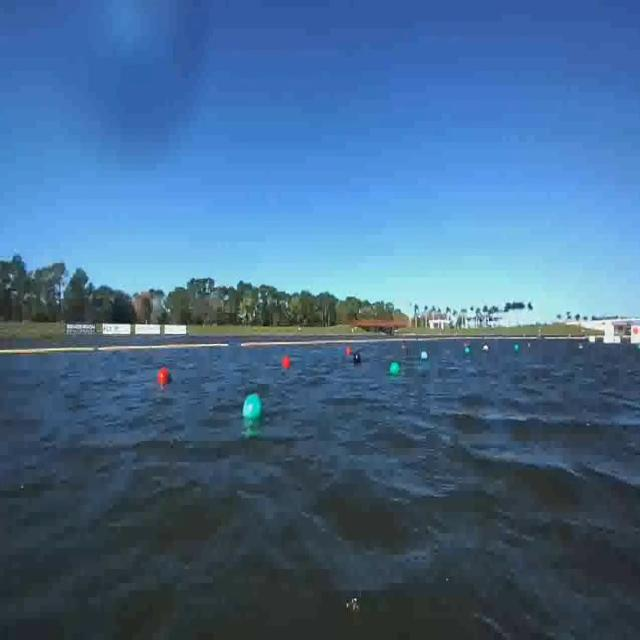black-buoy: (353, 353, 362, 365)
green-buoy: (242, 396, 262, 424), (390, 360, 400, 375)
red-buoy: (158, 367, 172, 385), (282, 356, 290, 369)
